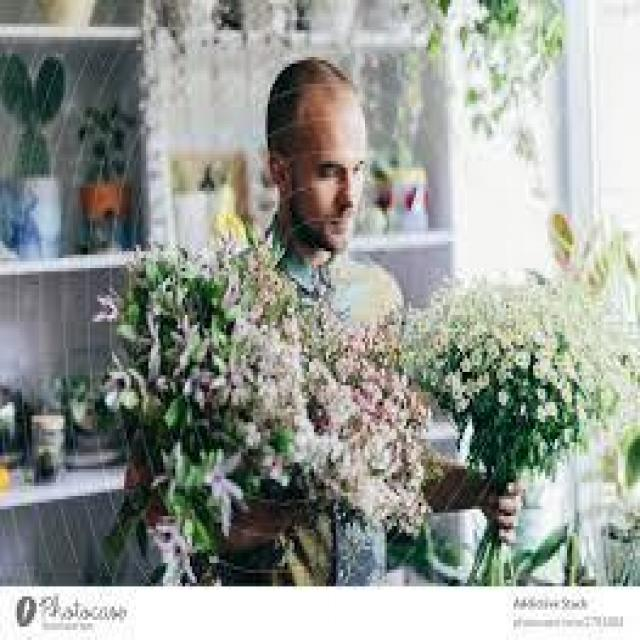organic waste: (145, 253, 400, 524), (410, 264, 619, 456)
